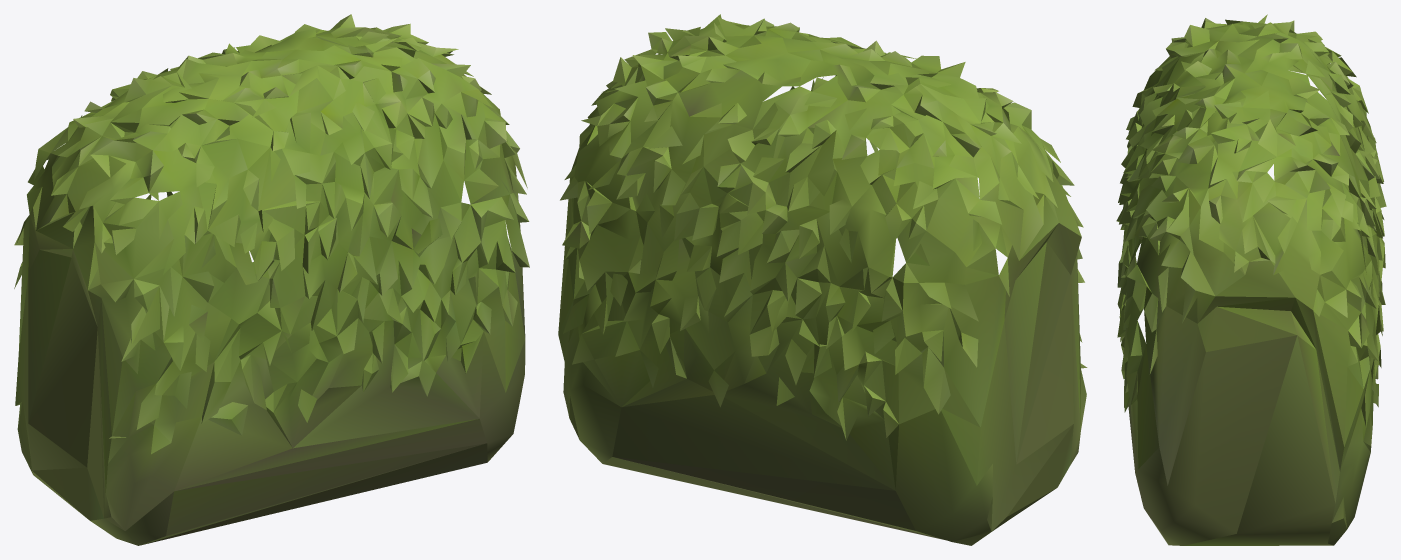
File: hedge_end.glb
3 views of the same model, side by side, from view 1: azimuth 30°, elevation 25°; view 2: azimuth 150°, elevation 25°; view 3: azimuth 270°, elevation 25° (orthographic). The views are drawn at different scales.
Parts seen in each view (by area): view 1: geometry_0; view 2: geometry_0; view 3: geometry_0.
Boxes of the visible parts, x1,y1,x2,y2 form: geometry_0: (14, 14, 529, 545); geometry_0: (558, 14, 1087, 545); geometry_0: (1116, 14, 1386, 545).
Size of the model in its own units: 1.65 by 1.5 by 0.92.
